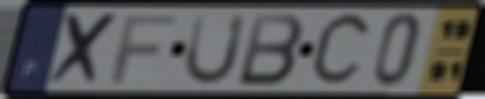0: (372, 11, 427, 91)
B: (235, 12, 308, 89)
C: (306, 9, 375, 92)
F: (108, 13, 180, 86)
U: (180, 12, 250, 88)
X: (45, 11, 123, 88)
